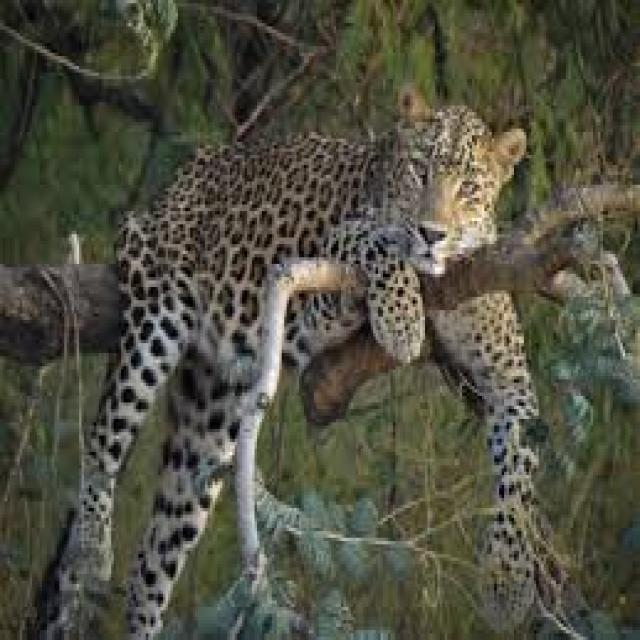Jaguar: (56, 86, 540, 640)
